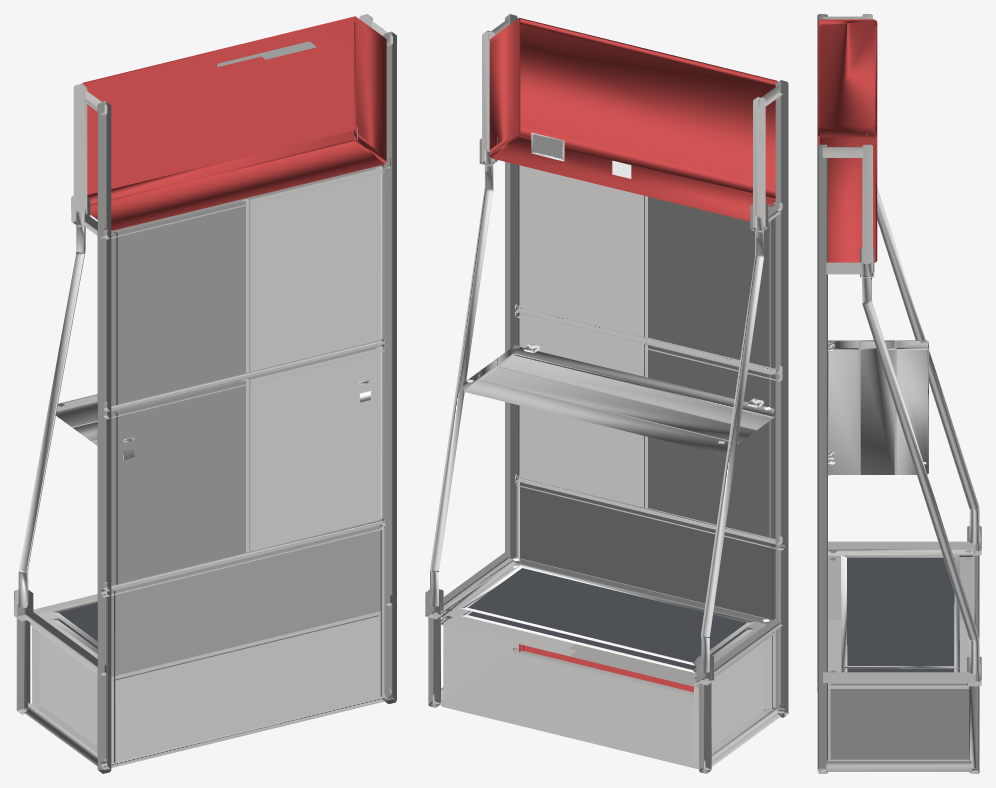
The model's file is rack_clothing_2_02x01x045_b.glb.
3 renders of one model, left to right at view 1: azimuth 30°, elevation 25°; view 2: azimuth 150°, elevation 25°; view 3: azimuth 270°, elevation 25°, orthographic. The views are drawn at different scales.
Bounding box in the file's own units: 1.6 × 3.42 × 0.8127.
